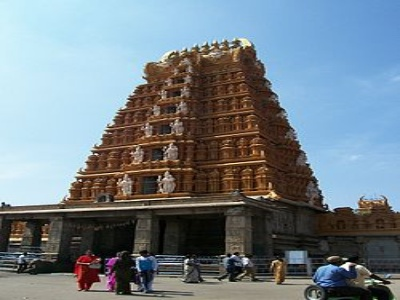gopura: (72, 36, 331, 198)
